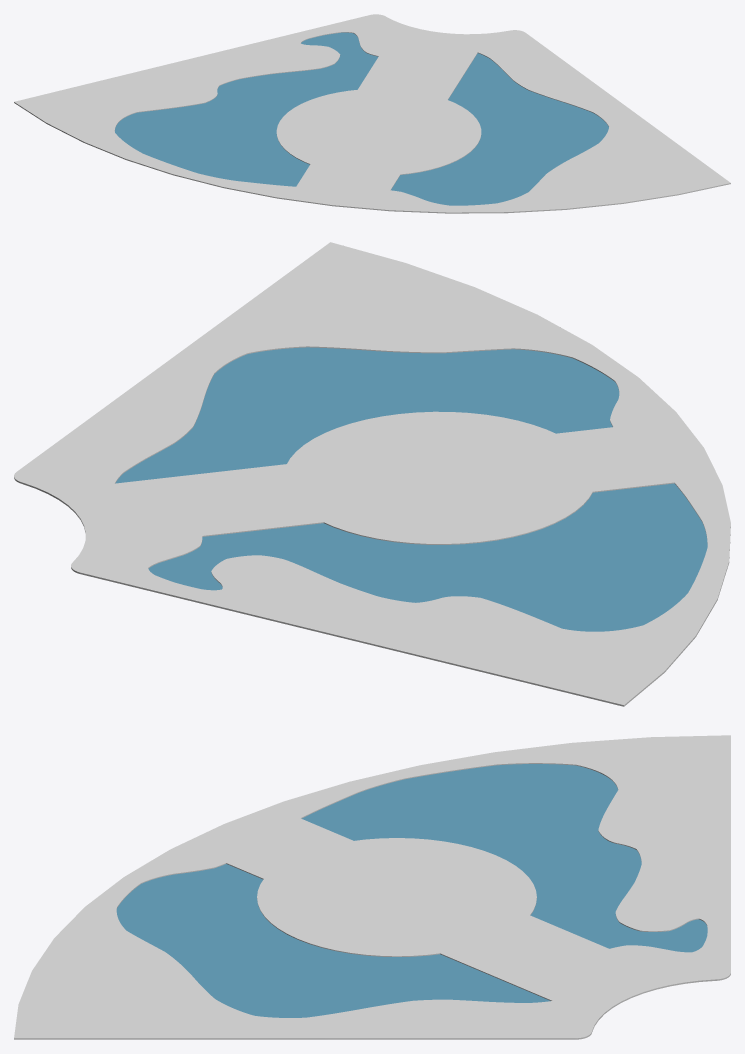
File: waterRegion2.glb
3 renders of one model, top to bottom at view 1: azimuth 30°, elevation 25°; view 2: azimuth 150°, elevation 25°; view 3: azimuth 270°, elevation 25°, orthographic. The views are drawn at different scales.
Visible parts, largest first — view 1: WaterRegion; view 2: WaterRegion; view 3: WaterRegion.
Boxes of the visible parts, <box> form: WaterRegion: <box>14,14,730,213</box>; WaterRegion: <box>14,242,730,706</box>; WaterRegion: <box>14,735,730,1039</box>.
Size of the model in its own units: 2.25 by 0.005 by 2.25.
